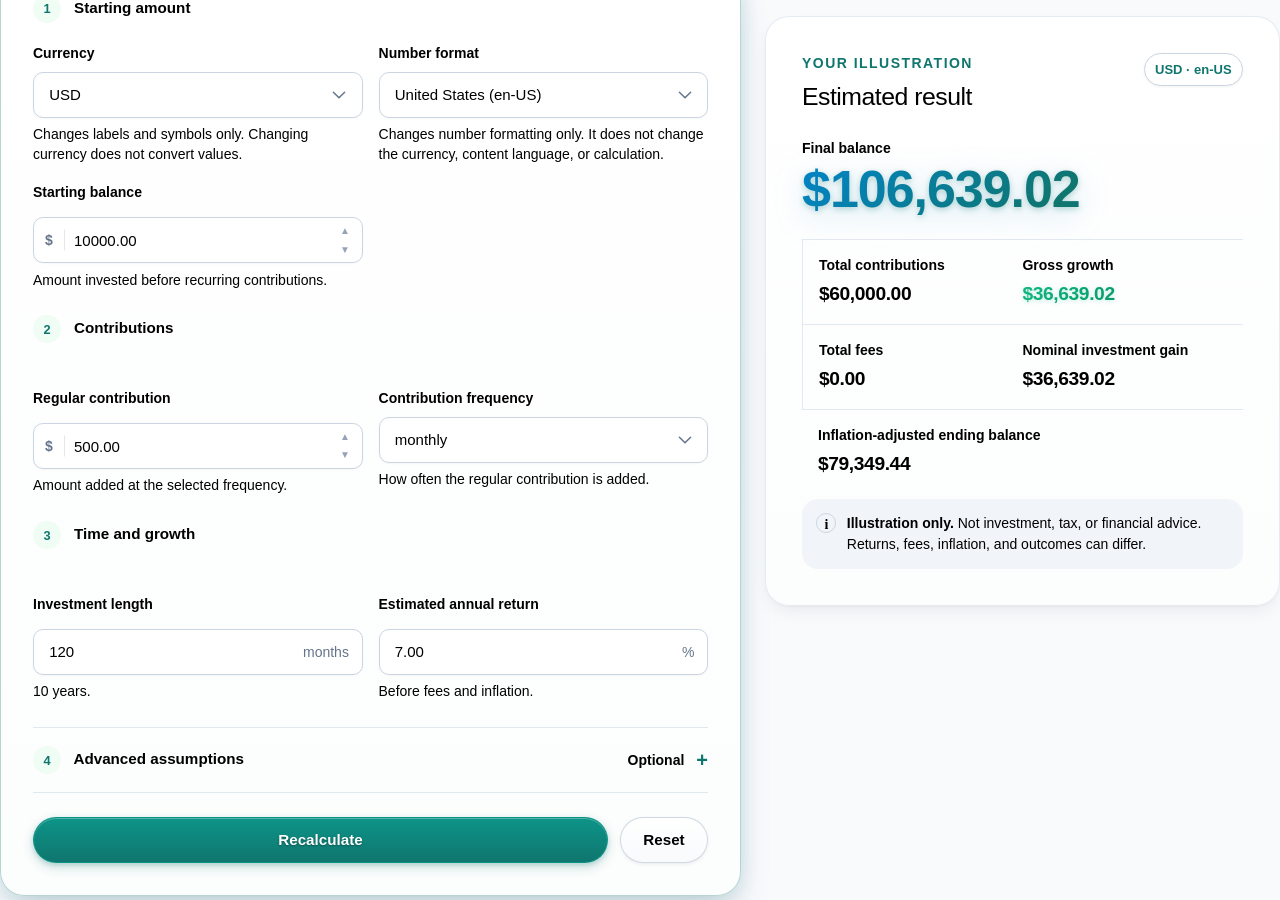
CalculatorWorkspace behavior › groups contribution timing radios and supports keyboard selection
The width and height of the screenshot is (1280, 900).
(page scrolled)
Step 1. Click the text "4 Advanced assumptions" → coordinates (138, 760), box [33,746,244,774]
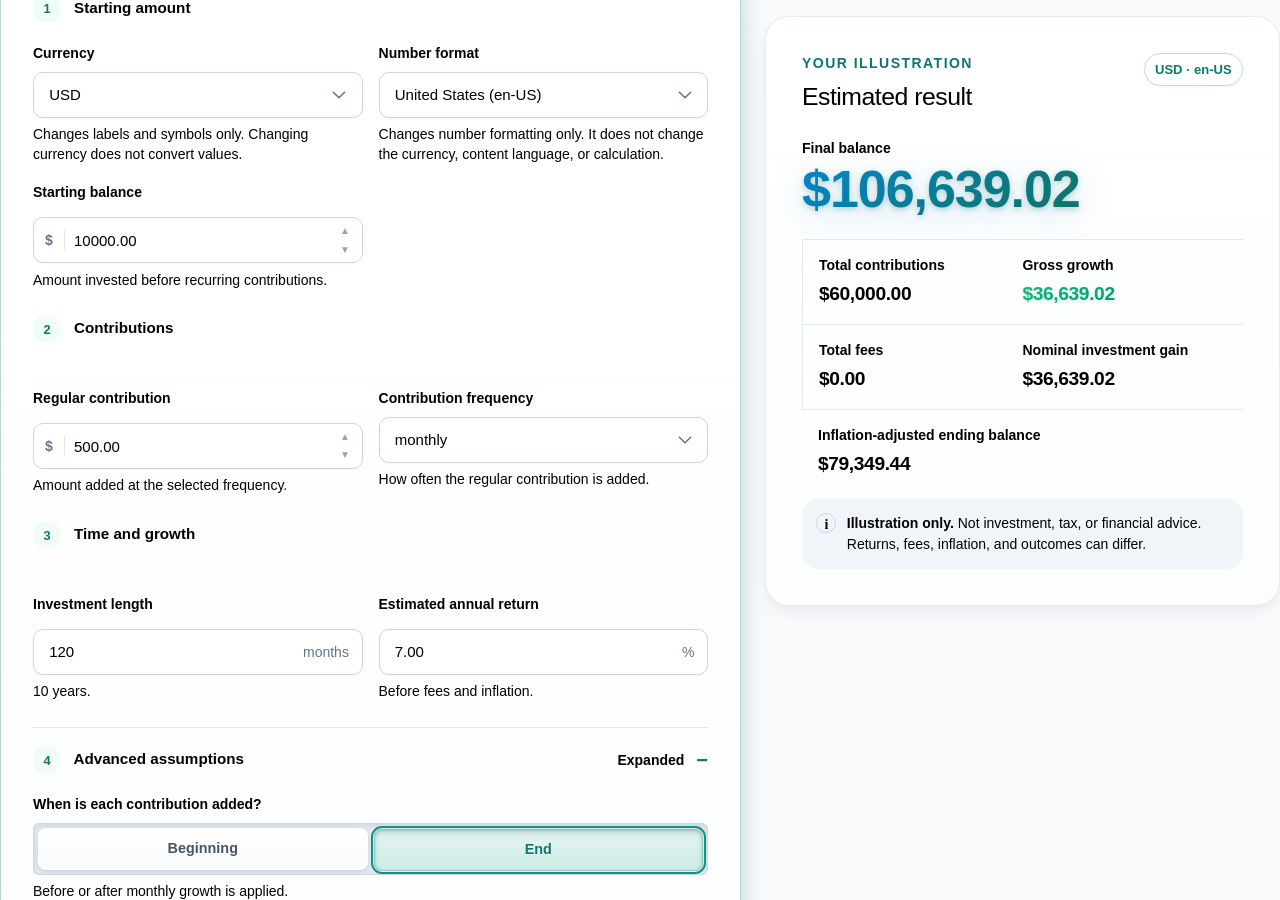
Step 2. Press Arrowleft
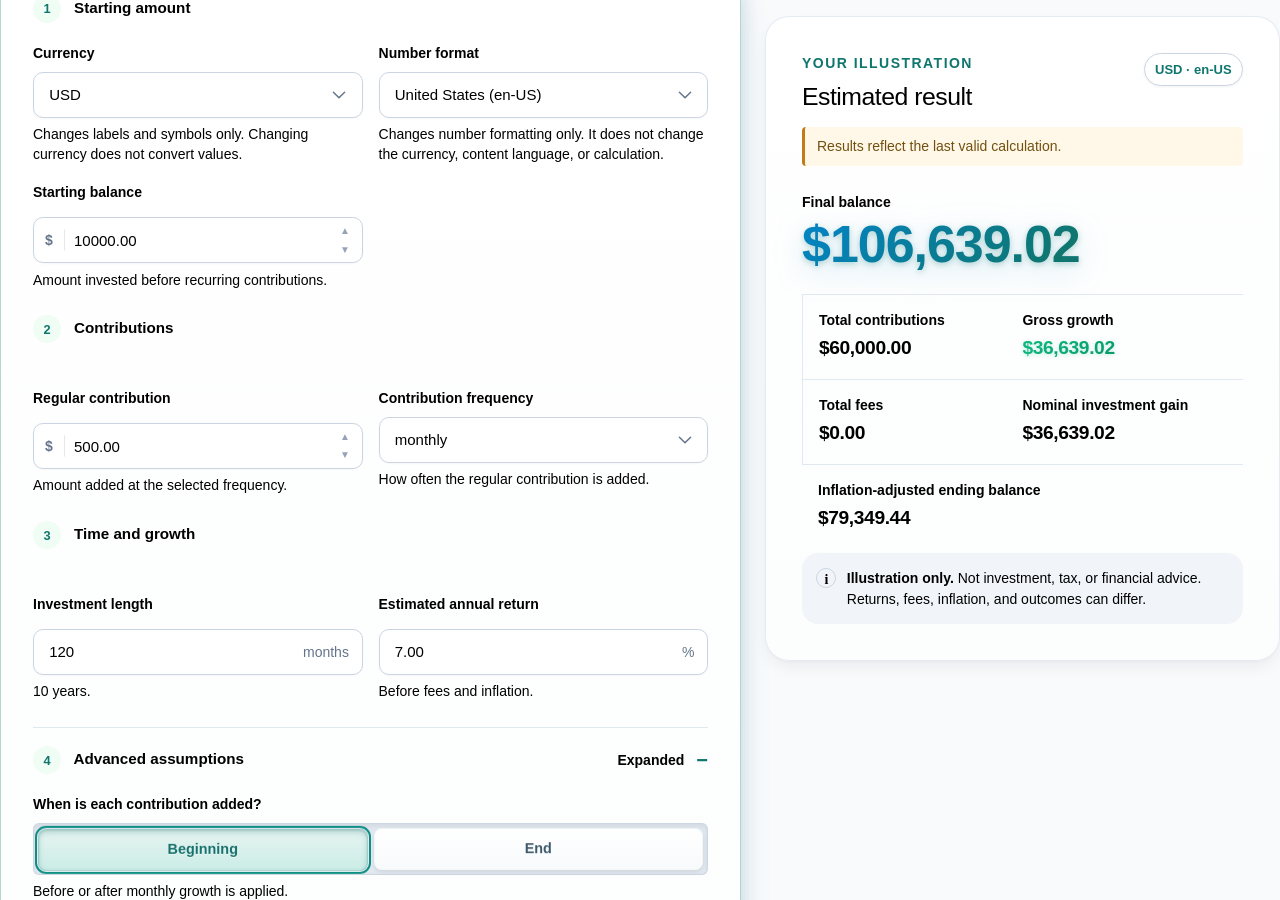
Check: the radio button labelled "beginning" is checked, box [38,828,368,870]
